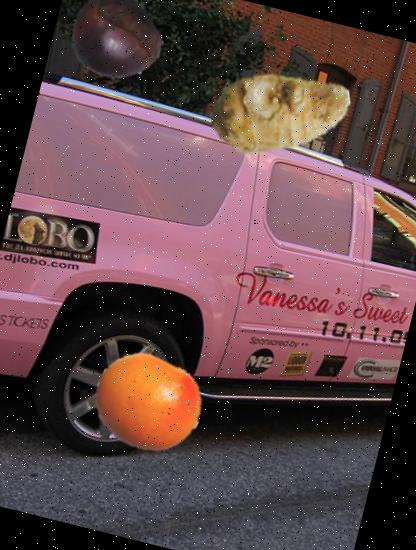Chestnut: (59, 0, 169, 92)
Ginger: (196, 27, 366, 198)
Grapefruit: (82, 338, 214, 469)
